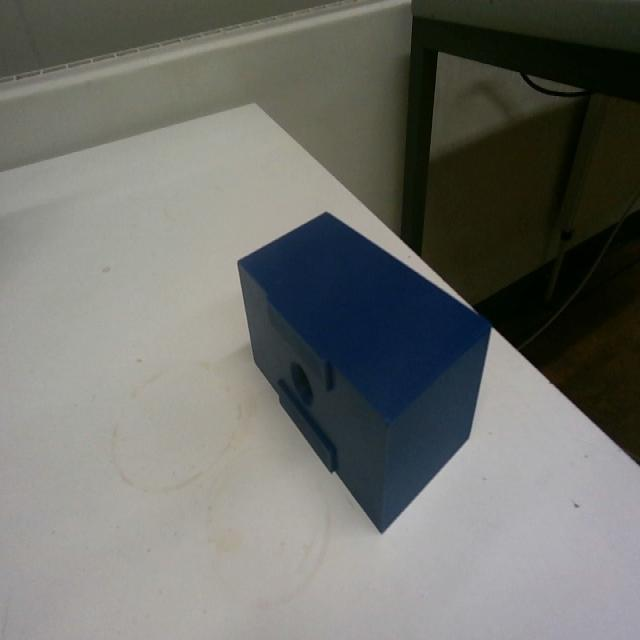Blue Cuboid: (234, 207, 493, 533)
